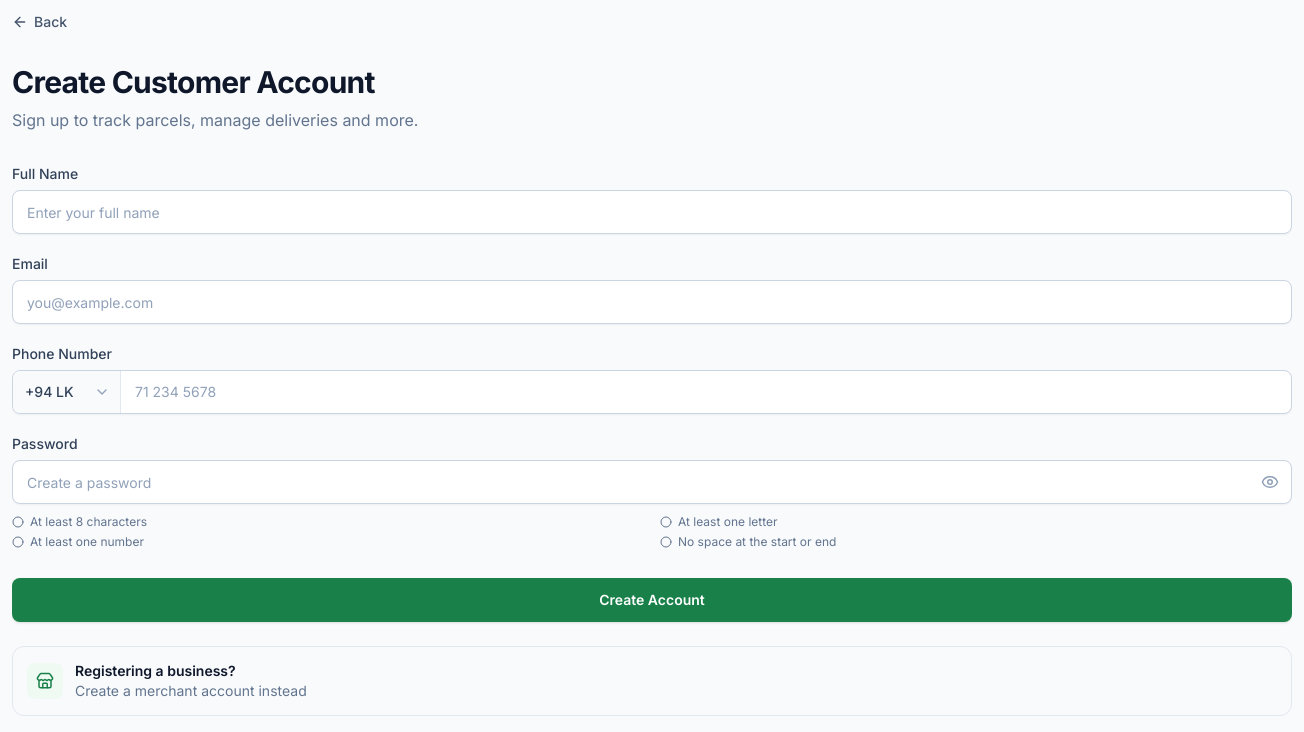
CustomerSignupPage › shows every error on submit and focuses the first invalid field
This screenshot has width=1304, height=732.
What coordinates should you click on to do the following:
click the button "Create Account"
I would click on:
 (652, 600)
Its box is x1=12 y1=578 x2=1292 y2=622.
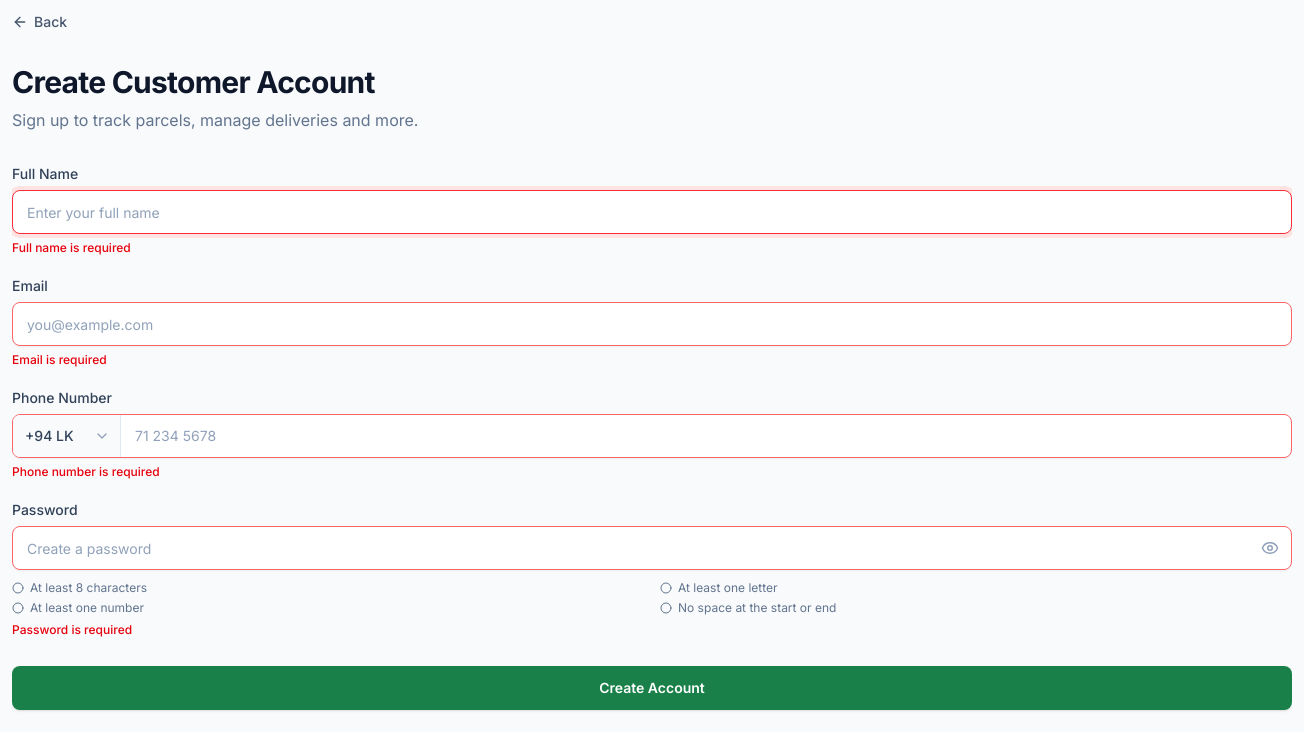
expect the text "Full name is required" is shown: met, box x1=12 y1=240 x2=131 y2=255
expect the text "Email is required" is shown: met, box x1=12 y1=352 x2=107 y2=367
expect the text "Phone number is required" is shown: met, box x1=12 y1=464 x2=160 y2=479
